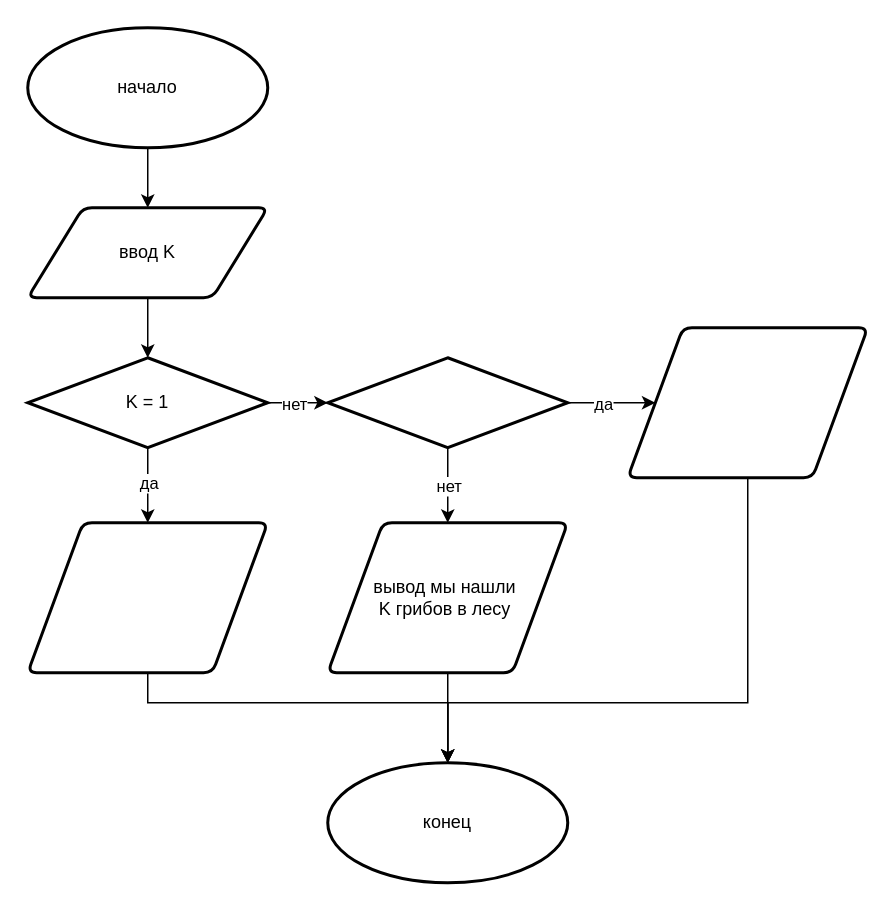
The diagram is 894 pixels wide and 909 high, and some of its shapes have lost their labels. The shapes that lost their labels are listed below. From the top down, each one's box as (x1, y1, x2, y2) in pixels, then its label:
(326, 356, 568, 448): К <= 4
(626, 326, 868, 478): вывод мы нашли K гриб в лесу
(26, 520, 268, 674): вывод мы нашли 1 гриб в лесу
